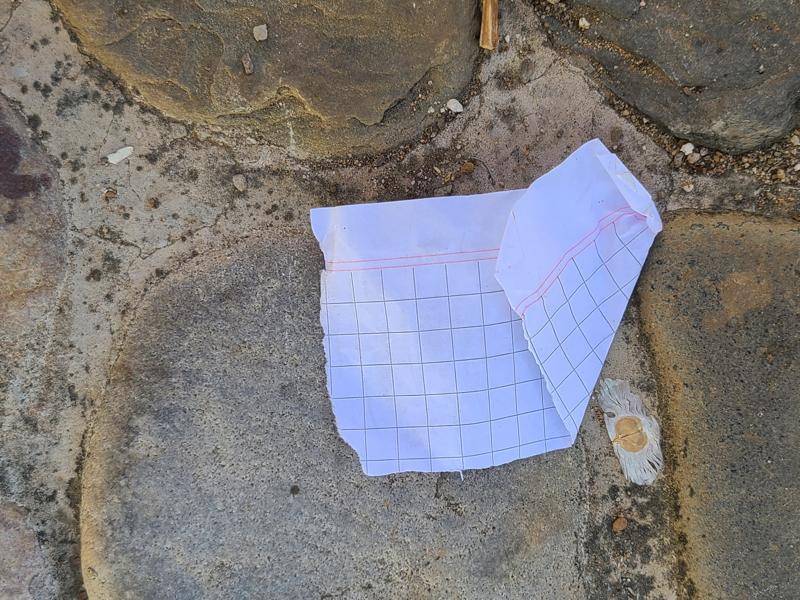papel: (308, 140, 663, 479)
